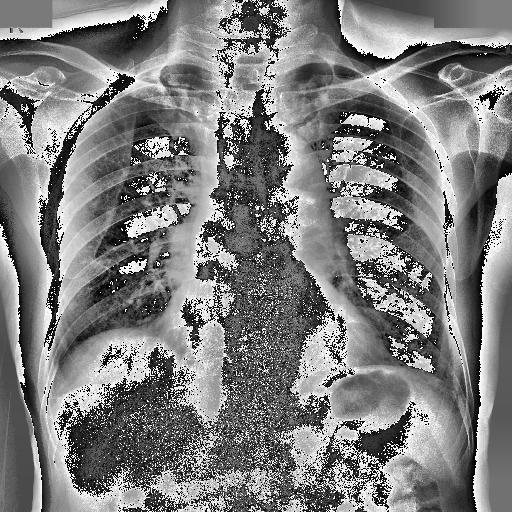0- Aortic enlargement: (251, 131, 328, 212), (254, 130, 324, 202), (256, 132, 326, 198)
13- Pulmonary fibrosis: (146, 64, 202, 134), (302, 69, 334, 127), (294, 74, 326, 123), (158, 67, 186, 115)
3- Cardiomegaly: (150, 317, 386, 379), (162, 298, 384, 362)
